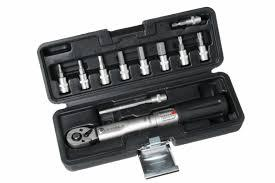wrench: (64, 93, 226, 148)
